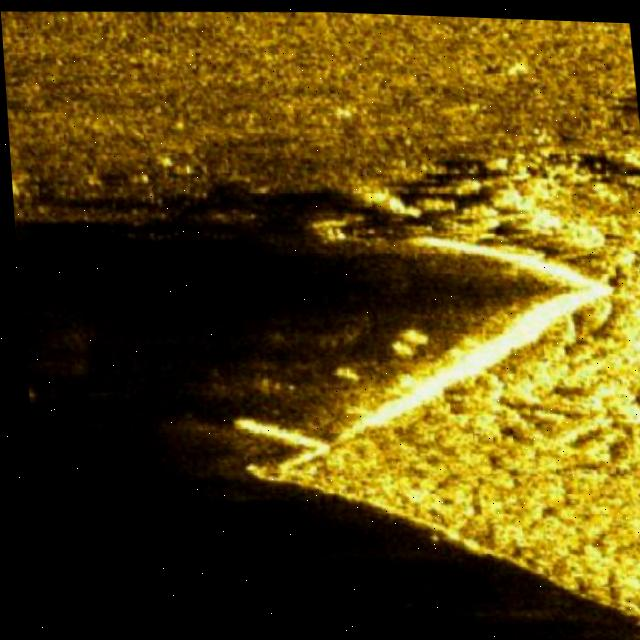bedrock group: (243, 139, 640, 640)
